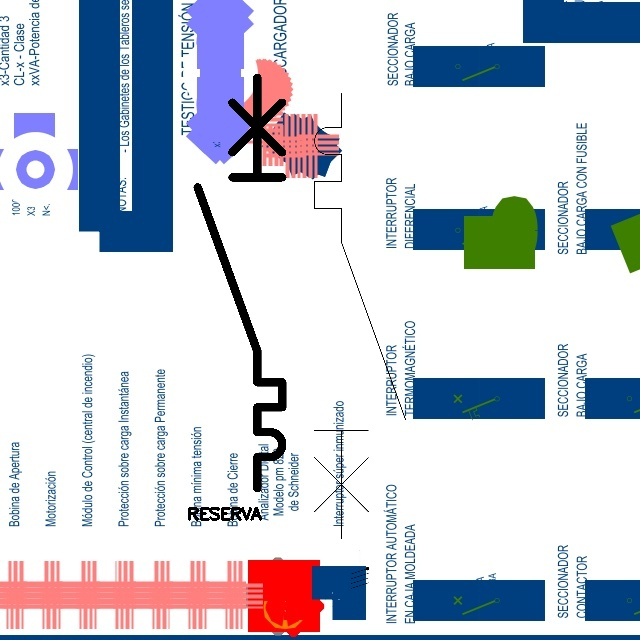interruptor_termomagnetico: (303, 82, 417, 549), (187, 67, 293, 499)
